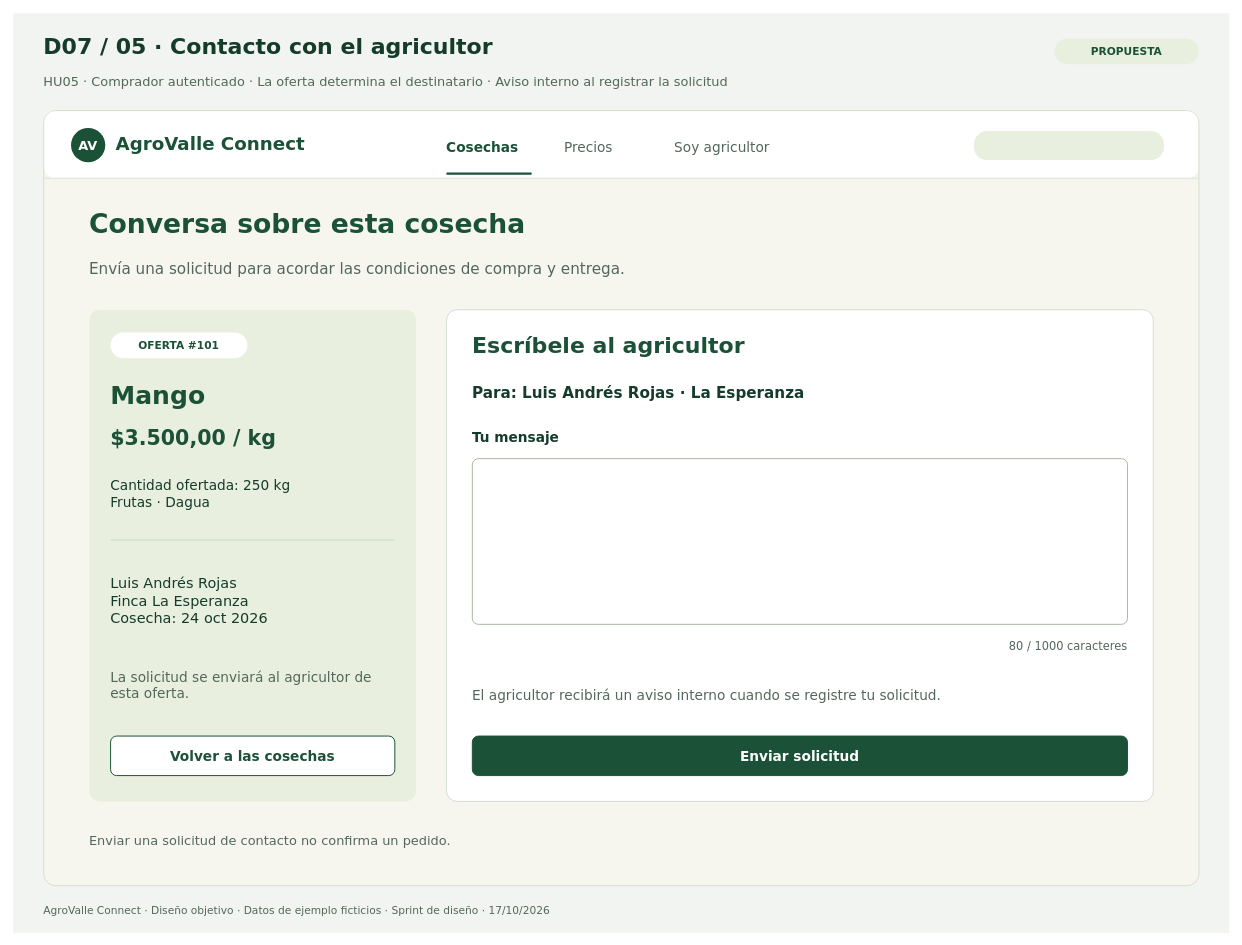
This 1242x945 diagram has some shape labels left out. Each missing label, with the box of its shape:
Hola, me interesa tu oferta de mango. ¿Podemos acordar la cantidad y la entrega?: (472, 458, 1128, 624)
Mi cuenta · Comprador: (974, 131, 1164, 160)
